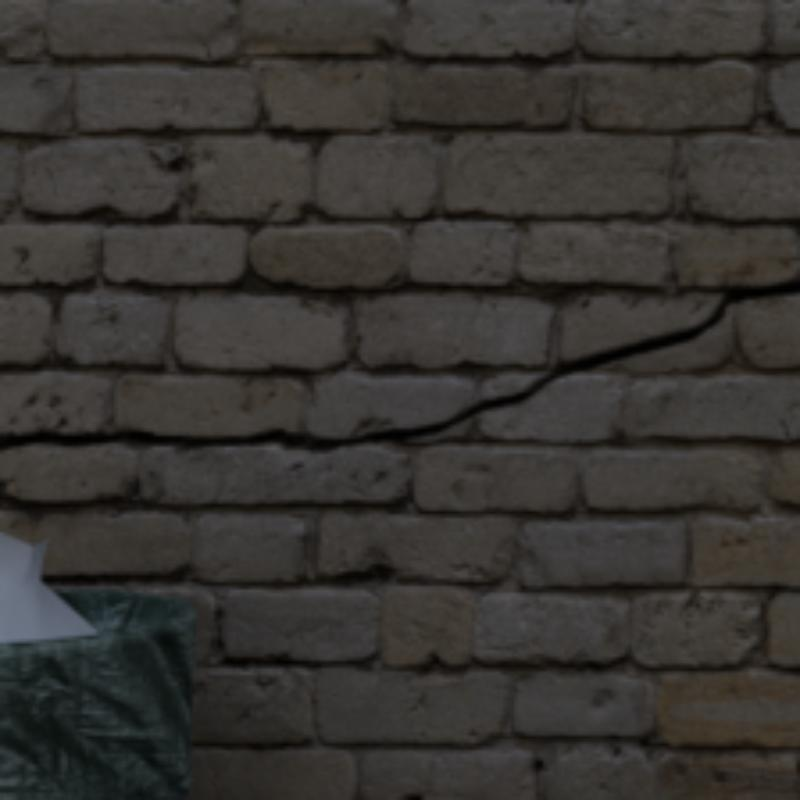pothole: (0, 282, 796, 446)
